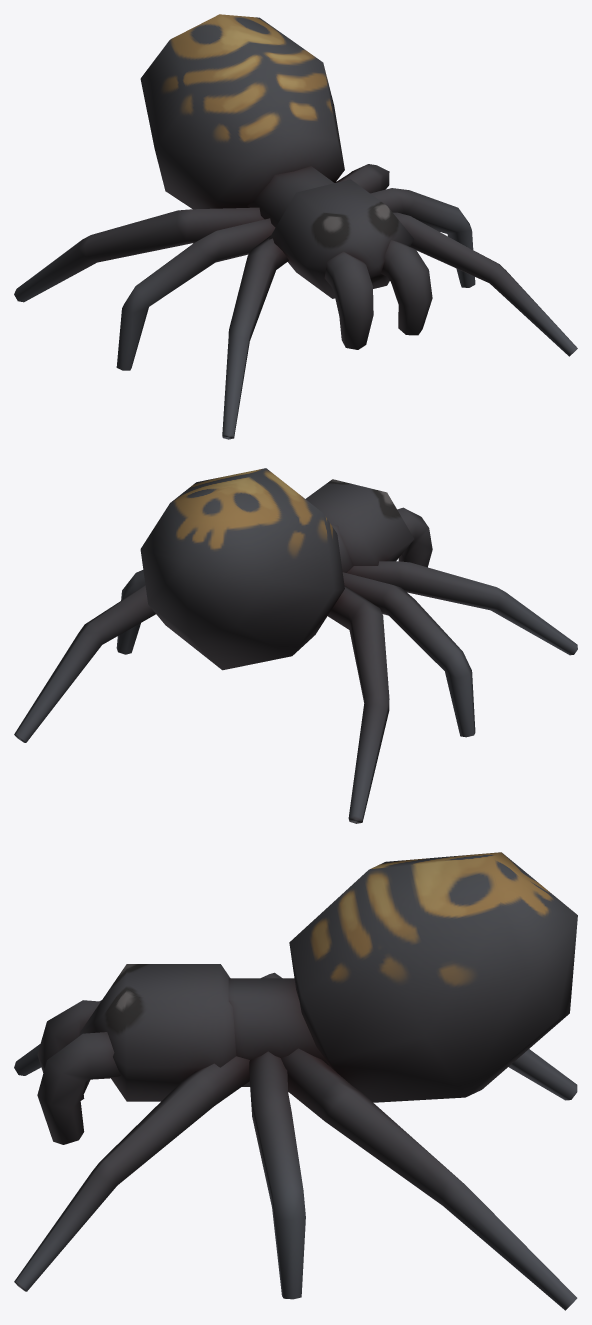
File: spider.fbx
3 views of the same model, one above another, from view 1: azimuth 30°, elevation 25°; view 2: azimuth 150°, elevation 25°; view 3: azimuth 270°, elevation 25° (orthographic). The views are drawn at different scales.
Visible parts, largest first — view 1: spider; view 2: spider; view 3: spider.
Boxes of the visible parts, x1,y1,x2,y2 form: spider: [14, 14, 577, 439]; spider: [14, 468, 577, 823]; spider: [14, 852, 577, 1310].
Size of the model in its own units: 55.44 by 39.86 by 58.6.
